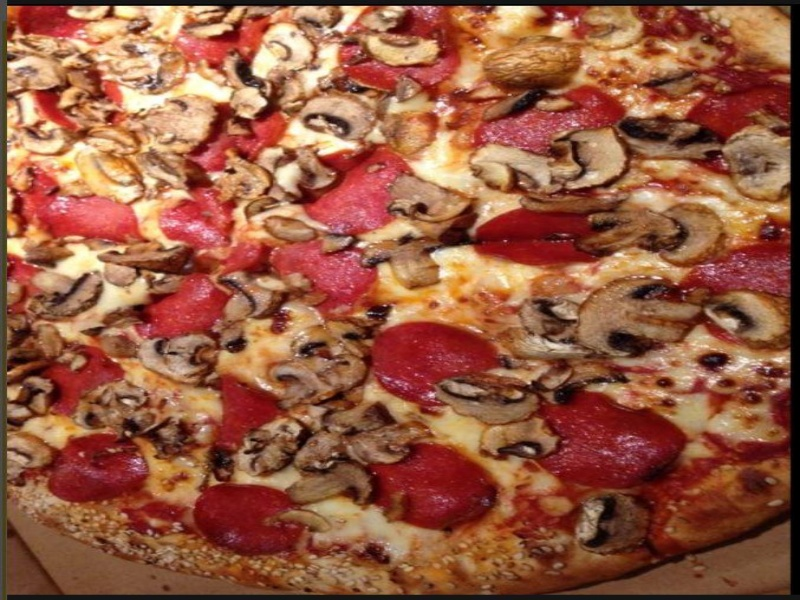champignon: (575, 272, 702, 359)
